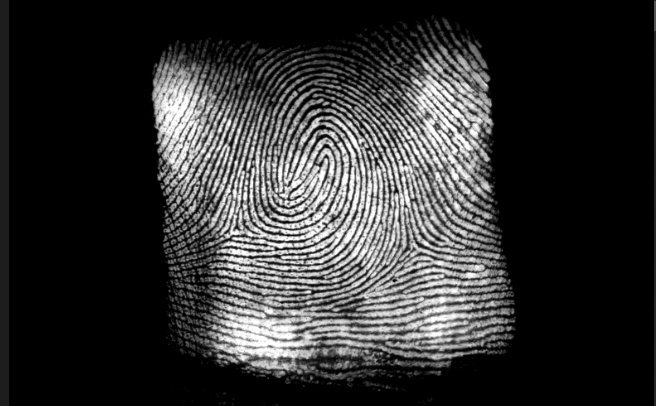nucelo: (309, 137, 336, 180)
verticilo: (212, 209, 265, 241), (394, 239, 435, 262)
